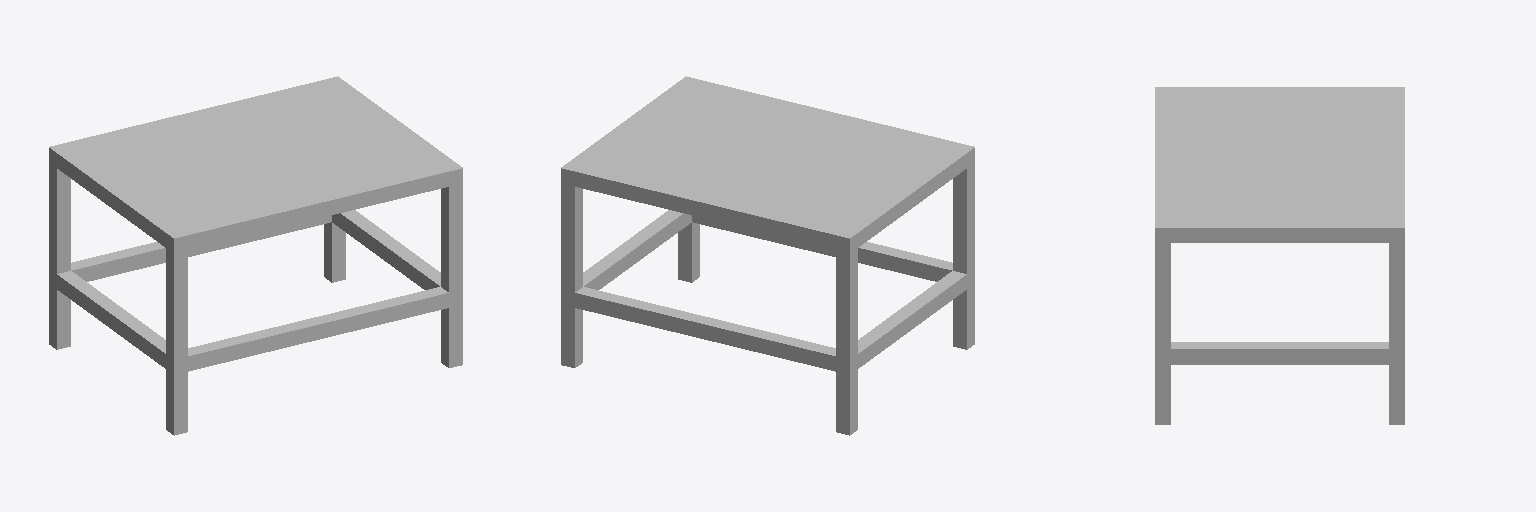
File: table.obj
The picture shows the model from 3 angles: view 1: azimuth 30°, elevation 25°; view 2: azimuth 150°, elevation 25°; view 3: azimuth 270°, elevation 25°; orthographic projection.
Parts seen in each view (by area): view 1: object 1; view 2: object 1; view 3: object 1.
Boxes of the visible parts, x1=… form: object 1: x1=49, y1=76, x2=462, y2=435; object 1: x1=561, y1=76, x2=974, y2=435; object 1: x1=1155, y1=87, x2=1404, y2=424.
Size of the model in its own units: 2 by 1.3 by 1.5.